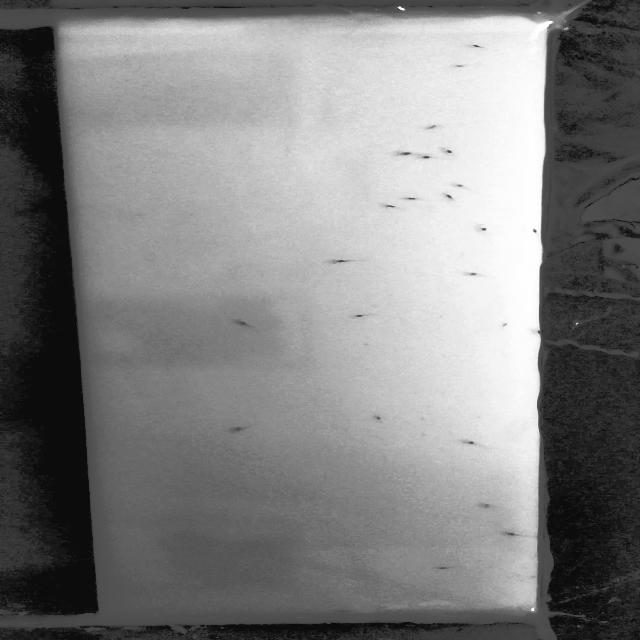shrimp: (226, 420, 266, 431), (329, 604, 362, 616), (233, 314, 260, 328), (395, 192, 426, 204), (464, 39, 492, 52), (434, 562, 464, 573), (373, 201, 405, 211), (449, 56, 473, 69), (499, 527, 524, 539), (360, 413, 390, 423), (471, 221, 491, 236), (352, 308, 375, 320), (322, 258, 360, 265), (492, 320, 514, 332), (434, 143, 452, 157), (458, 438, 483, 447), (440, 192, 465, 201), (412, 153, 438, 161), (422, 118, 448, 126), (474, 497, 490, 509), (452, 180, 476, 188), (458, 270, 485, 277), (397, 146, 414, 156), (527, 226, 537, 232)
